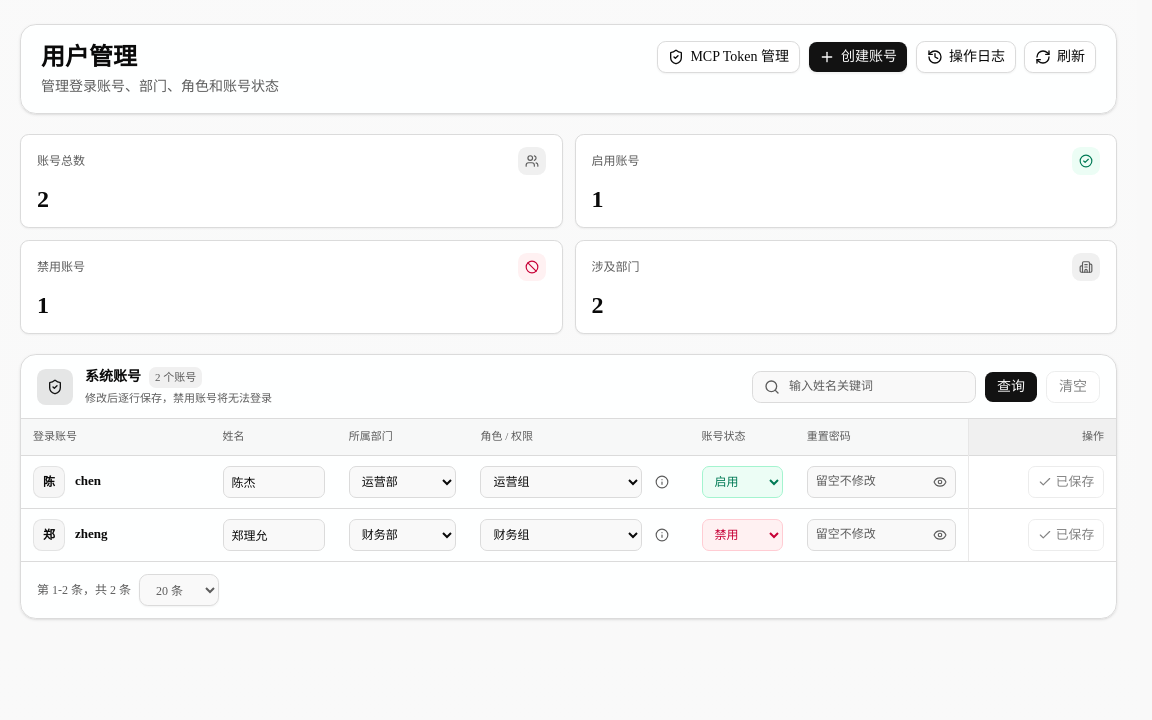
Scenario: saves the row fields and excludes an unchanged password
This screenshot has width=1152, height=720.
Expected: the button "查询" is enabled, [984, 370, 1038, 402]
Step 1. Clear the field named "chen的姓名" → x=274, y=482, box [222, 466, 325, 498]
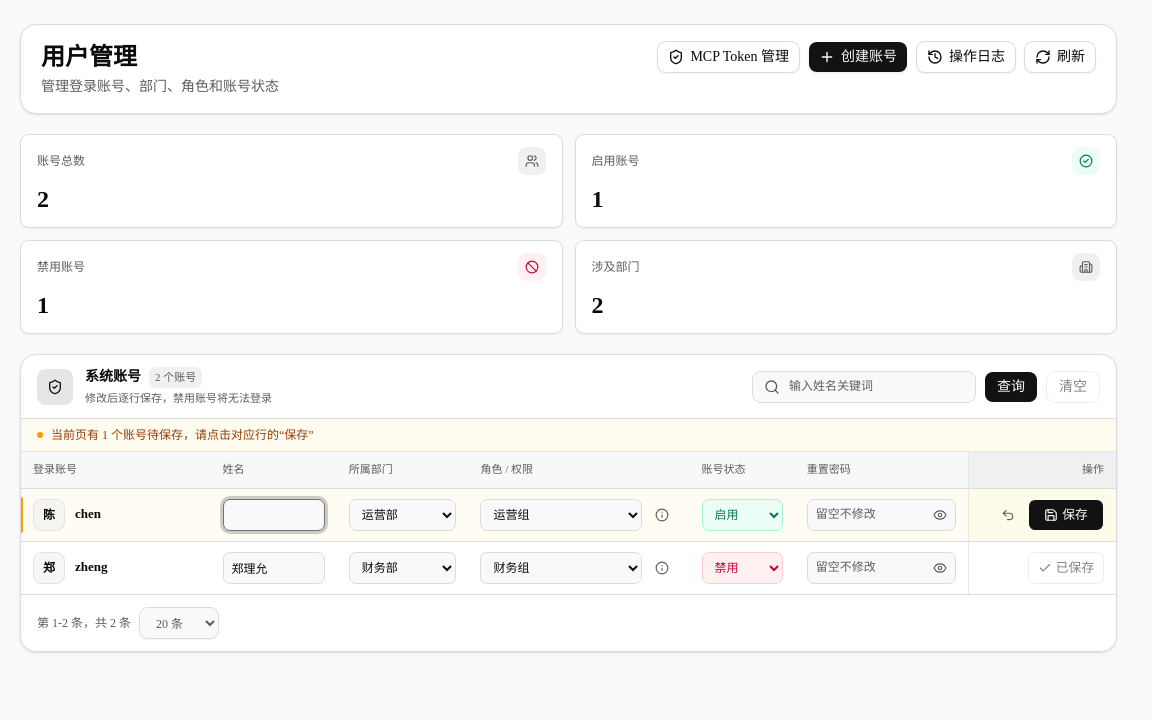
Step 2. Type "陈杰新" into the field named "chen的姓名" → x=274, y=515, box [222, 499, 325, 531]
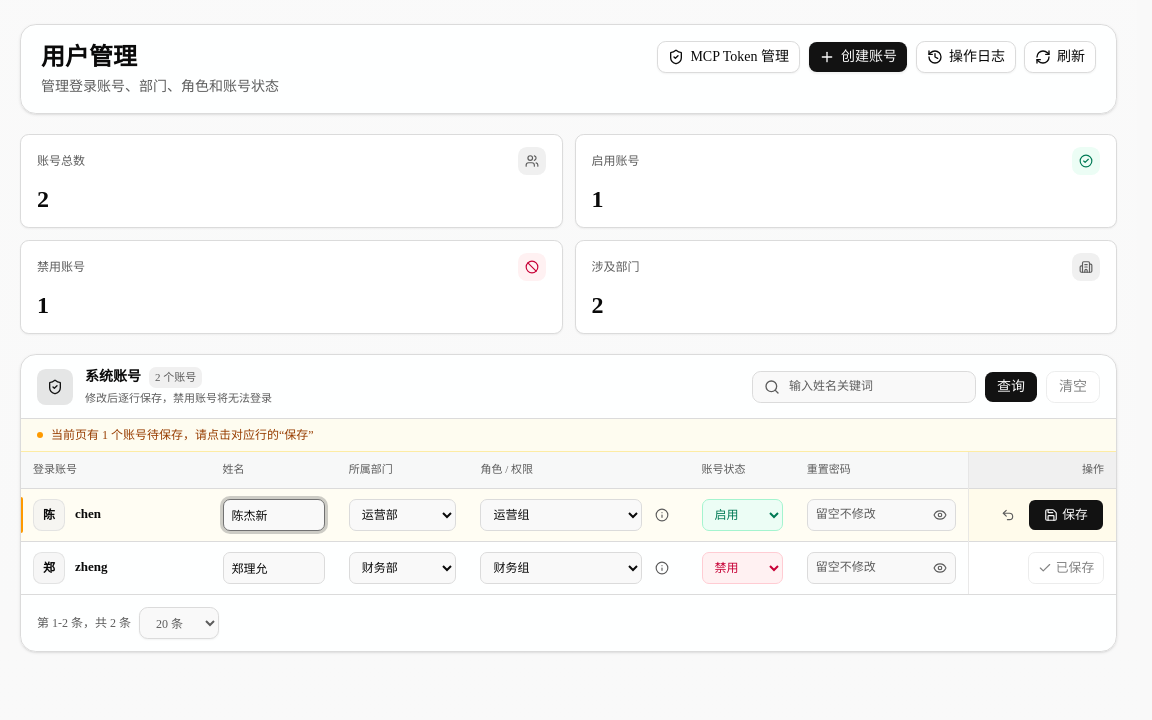
Step 3. Select "禁用" in the dropdown named "chen的状态" → x=742, y=515, box [702, 499, 783, 531]
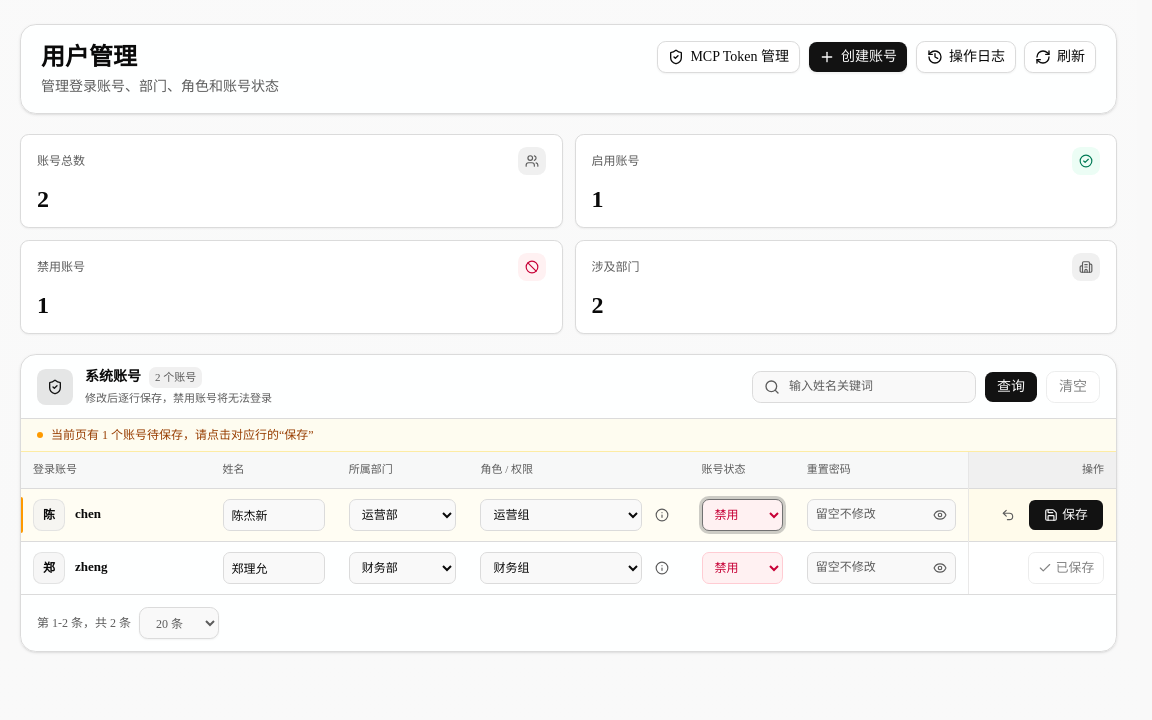
Step 4. Click the button with aria-label "保存账号 chen" → x=1066, y=515, box [1028, 499, 1104, 531]
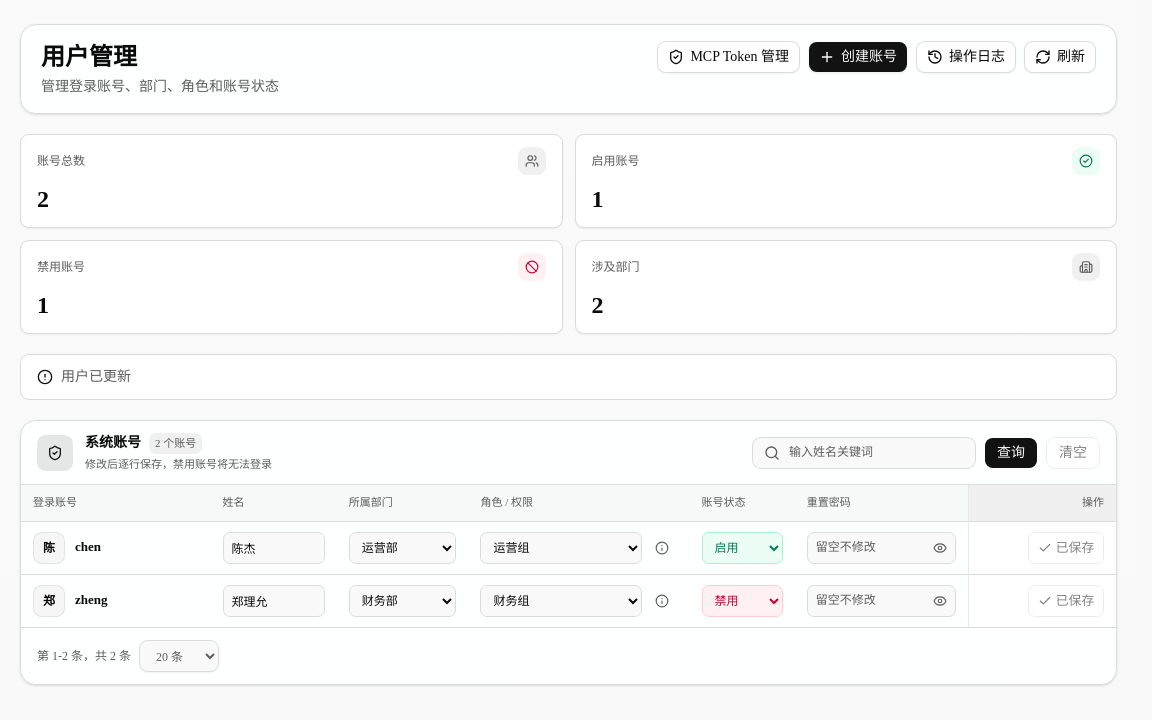
Now the text "用户已更新" is shown, box [61, 367, 131, 387]
Now the button with aria-label "保存账号 chen" is disabled, box [1028, 532, 1104, 564]
Now the message "当前页有 1 个账号待保存，请点击对应行的“保存”" is gone
